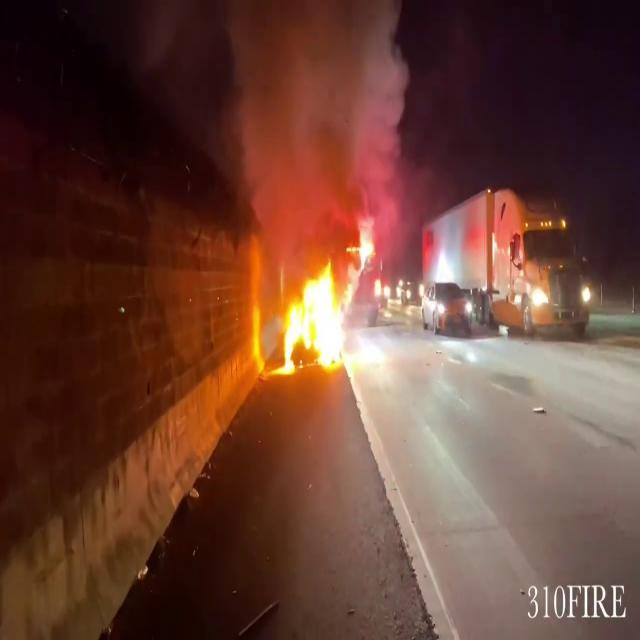Fire: (250, 259, 354, 377)
Smoke: (217, 0, 416, 230)
